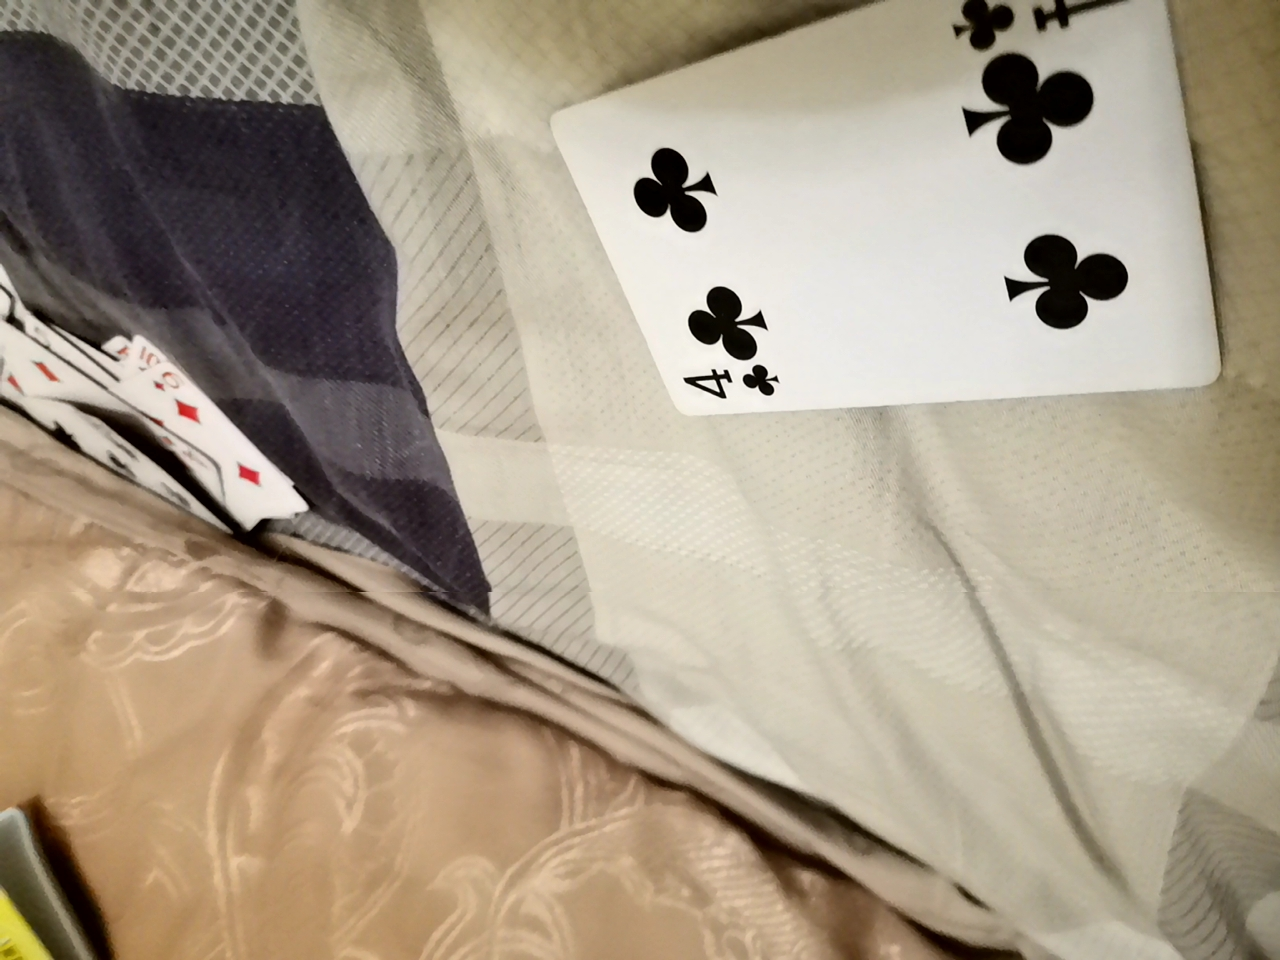mh 4: (564, 6, 1209, 416)
